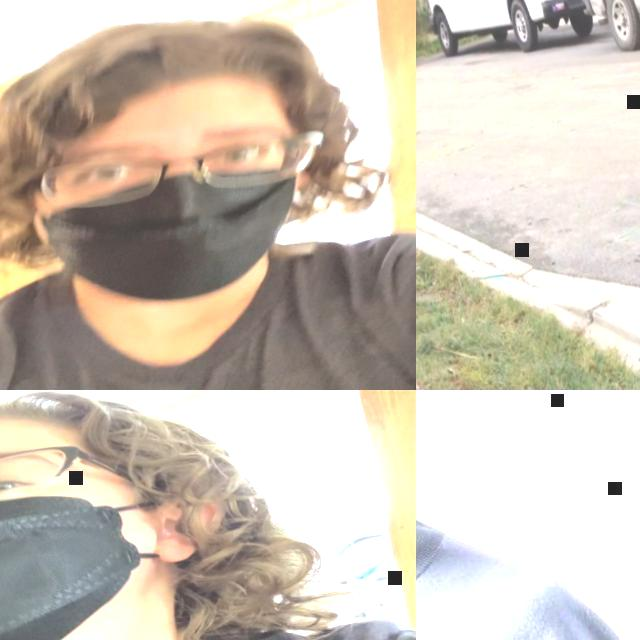mask: (28, 149, 325, 328), (0, 449, 190, 640)
no_helmet: (0, 0, 328, 174), (0, 390, 180, 513)
no_vest: (0, 188, 416, 390), (0, 585, 416, 640), (416, 525, 574, 640)
person: (0, 0, 416, 390), (0, 390, 416, 640), (416, 390, 640, 640), (532, 390, 640, 640)
vehicle: (416, 0, 610, 70)
